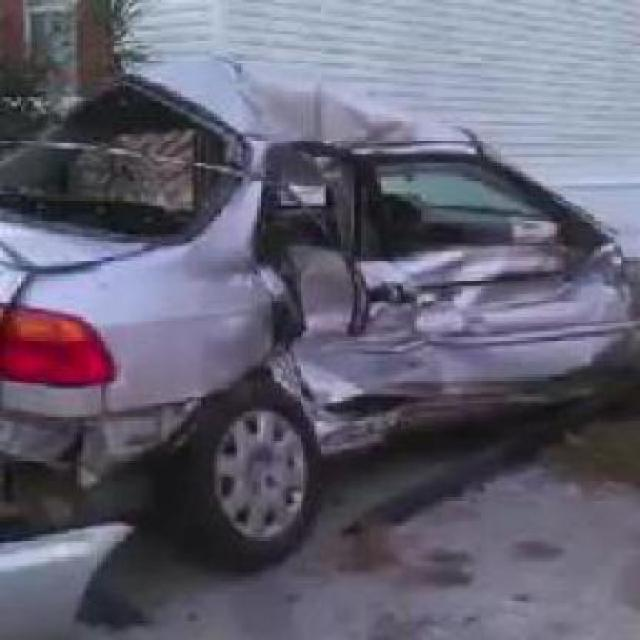damaged-door: (350, 161, 613, 405), (260, 149, 368, 451)
damaged-rear-window: (9, 85, 238, 250)
